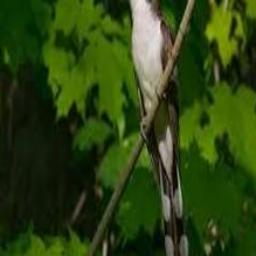Cuckoo: (119, 0, 192, 256)
